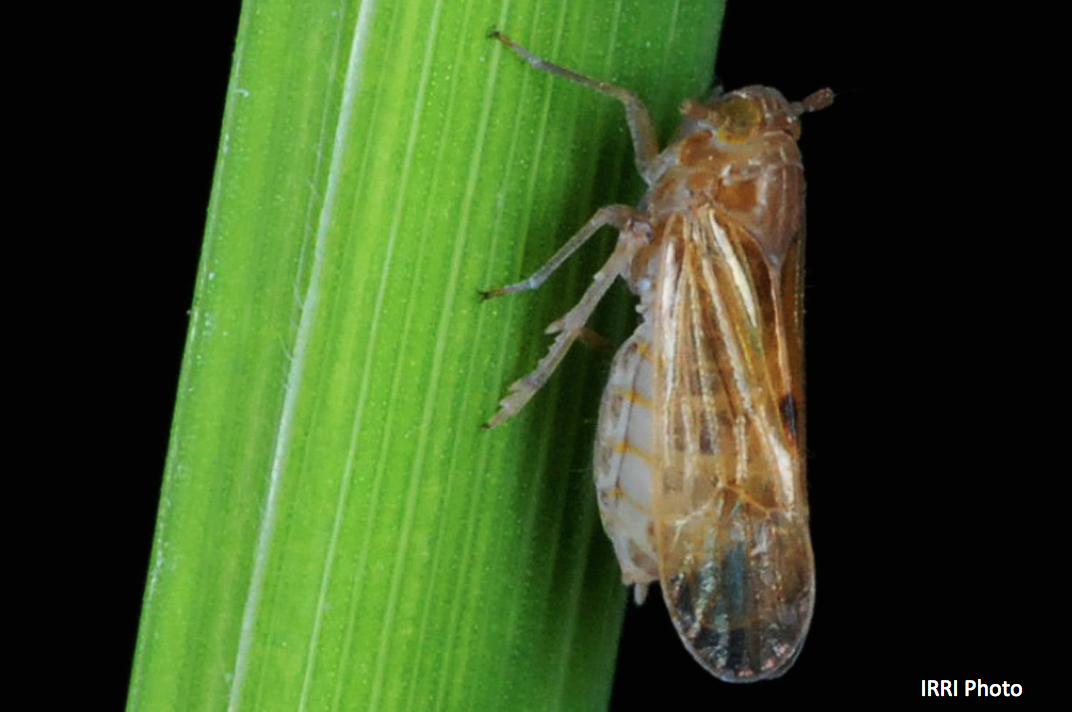Brown_hopper: (491, 24, 847, 675)
